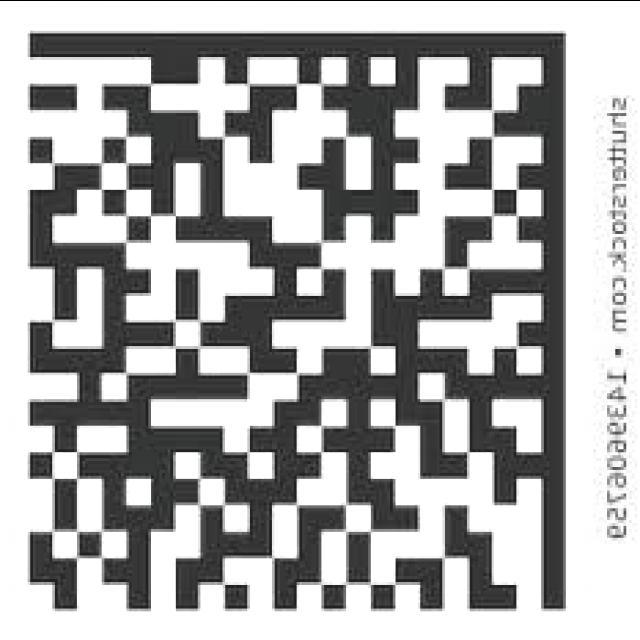Data-Matrix: (19, 24, 580, 625)
